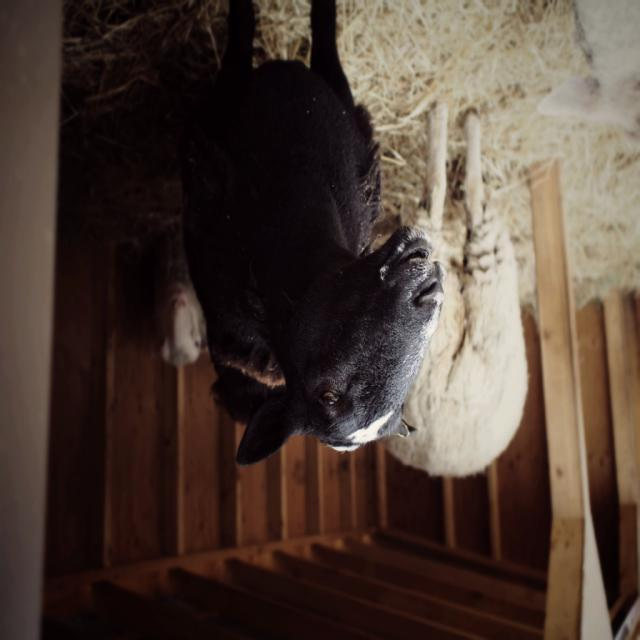Goat: (178, 3, 445, 469)
